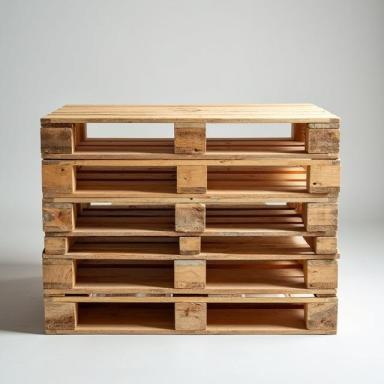pallet: (40, 103, 340, 160), (42, 248, 341, 298), (42, 159, 341, 199), (44, 297, 339, 335), (42, 198, 339, 232), (44, 231, 338, 255), (206, 123, 291, 151), (82, 123, 174, 144), (206, 260, 302, 280), (76, 259, 174, 276), (77, 166, 177, 174), (207, 166, 306, 173)
